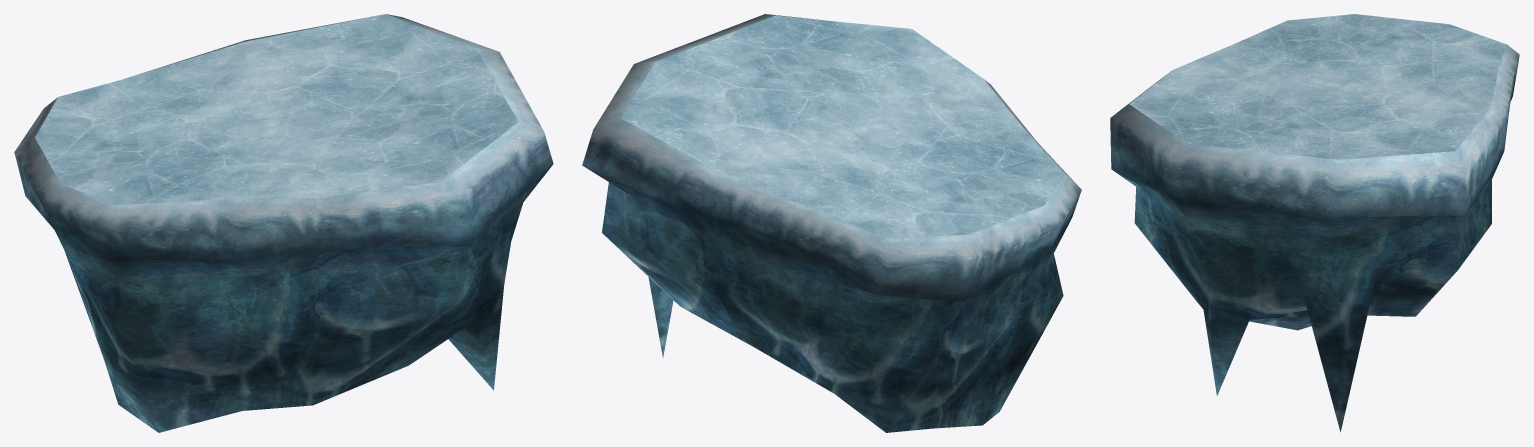
The model's file is environment_stone_dabingshi_001_b.FBX.
3 renders of one model, left to right at view 1: azimuth 30°, elevation 25°; view 2: azimuth 150°, elevation 25°; view 3: azimuth 270°, elevation 25°, orthographic. The views are drawn at different scales.
Visible parts, largest first — view 1: environment_stone_dabingshi_001_01, environment_stone_dabingshi_001_02; view 2: environment_stone_dabingshi_001_01, environment_stone_dabingshi_001_02; view 3: environment_stone_dabingshi_001_01, environment_stone_dabingshi_001_02.
Boxes of the visible parts, x1,y1,x2,y2 form: environment_stone_dabingshi_001_01: (14,14,553,432); environment_stone_dabingshi_001_02: (35,14,518,205); environment_stone_dabingshi_001_01: (582,14,1081,432); environment_stone_dabingshi_001_02: (620,15,1064,239); environment_stone_dabingshi_001_01: (1110,44,1519,432); environment_stone_dabingshi_001_02: (1129,14,1506,159).
Bounding box in the file's own units: 694 × 438 × 586.
Materials: 2 (2 with a texture image).
